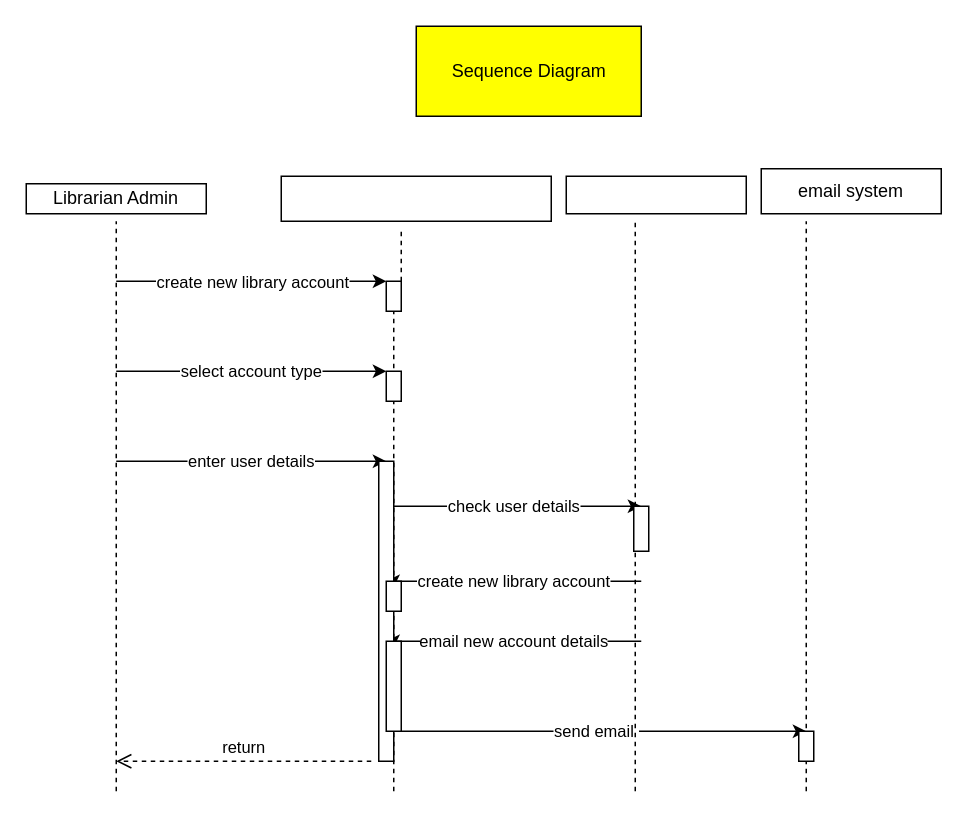
Some shapes in this 968 by 819 pixel diagram are drawn without their labels. Each missing label, with the centre of its shape:
"Library management system" belongs at point (415, 198).
"User credentials DB" belongs at point (655, 194).
